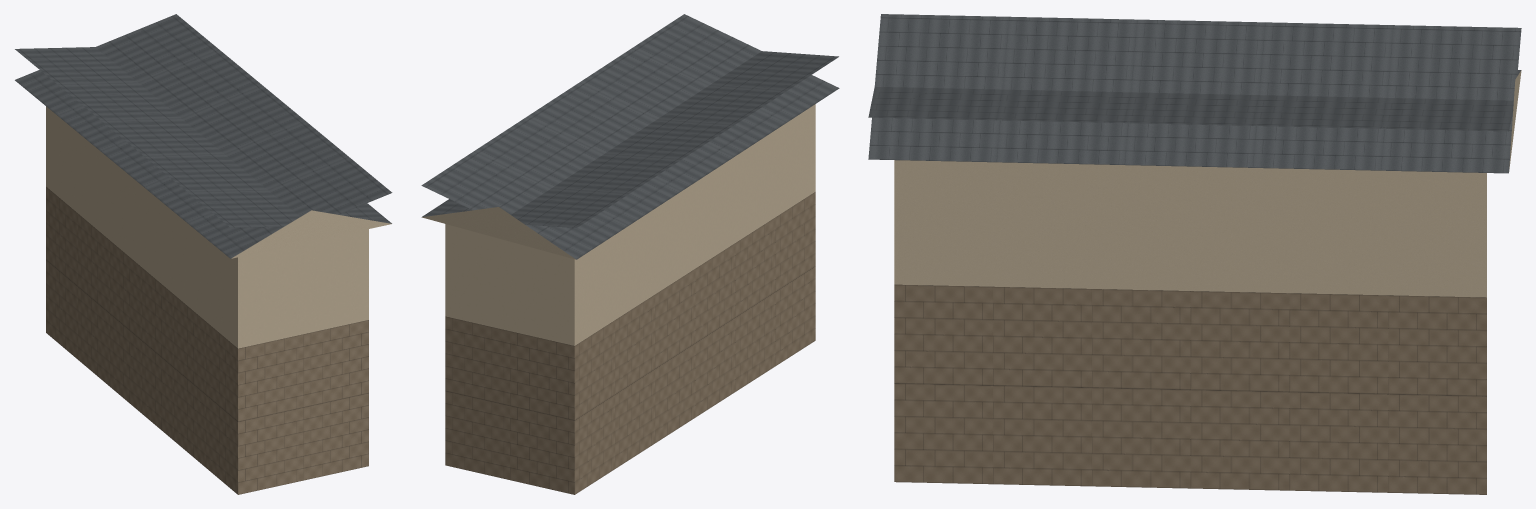
File: bld_c2_10_477.gltf
3 renders of one model, left to right at view 1: azimuth 30°, elevation 25°; view 2: azimuth 150°, elevation 25°; view 3: azimuth 270°, elevation 25°, orthographic. The views are drawn at different scales.
Visible parts, largest first — view 1: bld_c2_10_477; view 2: bld_c2_10_477; view 3: bld_c2_10_477.
Part boxes in pixels (bbox=[...]): bld_c2_10_477: bbox=[15, 14, 392, 494]; bld_c2_10_477: bbox=[421, 14, 839, 494]; bld_c2_10_477: bbox=[868, 14, 1521, 494].
Size of the model in its own units: 6 by 8.9 by 14.1.
4 materials, 4 textured.
